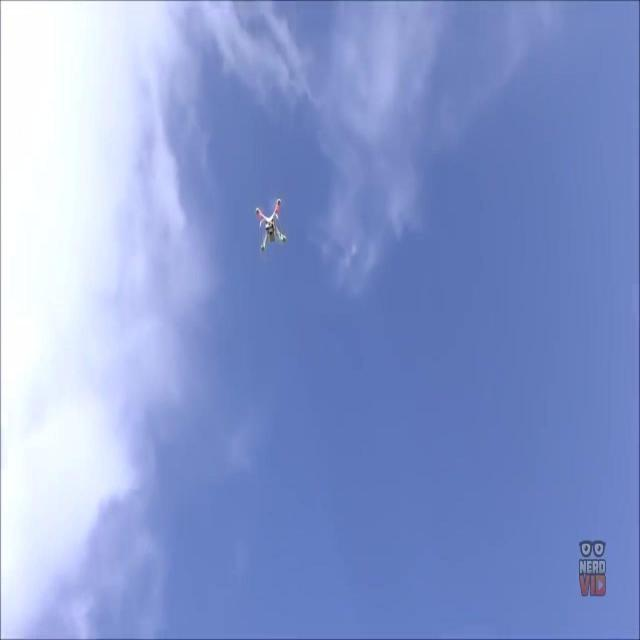UAV: (256, 198, 287, 252)
